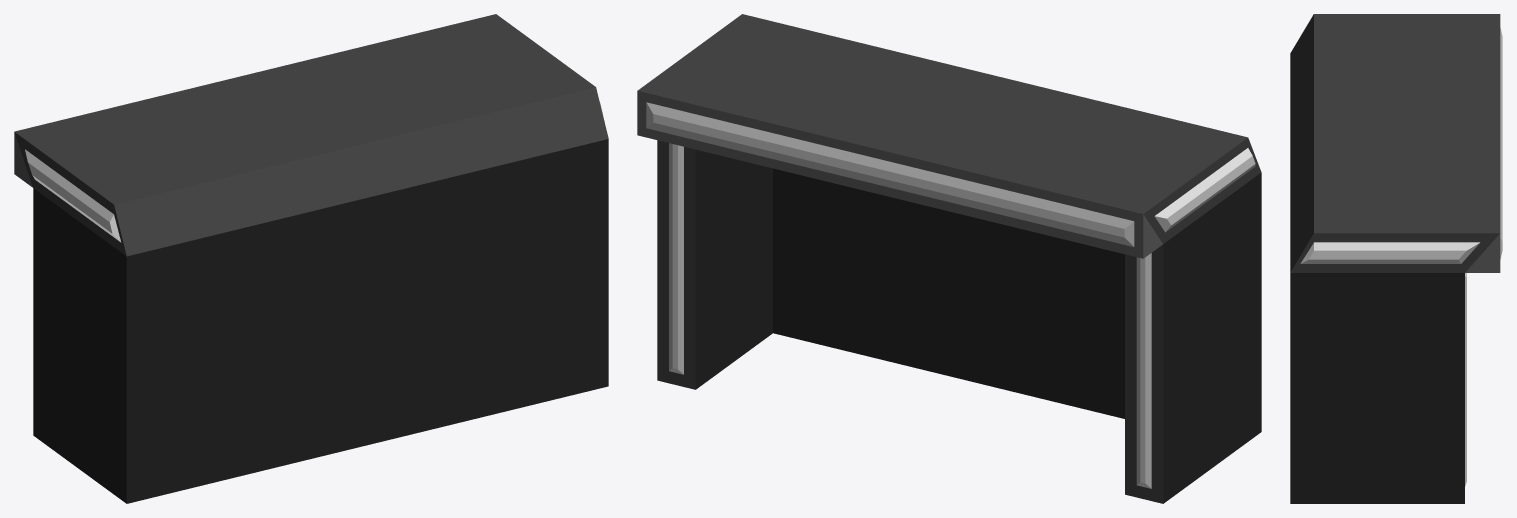
The model's file is UtilShed.fbx.
The picture shows the model from 3 angles, left to right: view 1: azimuth 30°, elevation 25°; view 2: azimuth 150°, elevation 25°; view 3: azimuth 270°, elevation 25°; orthographic projection. The views are drawn at different scales.
Visible parts, largest first — view 1: Shed; view 2: Shed; view 3: Shed.
Part boxes in pixels (x1,y1,x2,y2): Shed: (14, 14, 608, 503); Shed: (637, 14, 1261, 503); Shed: (1290, 14, 1502, 503).
Size of the model in its own units: 81.13 by 45.82 by 32.64.
